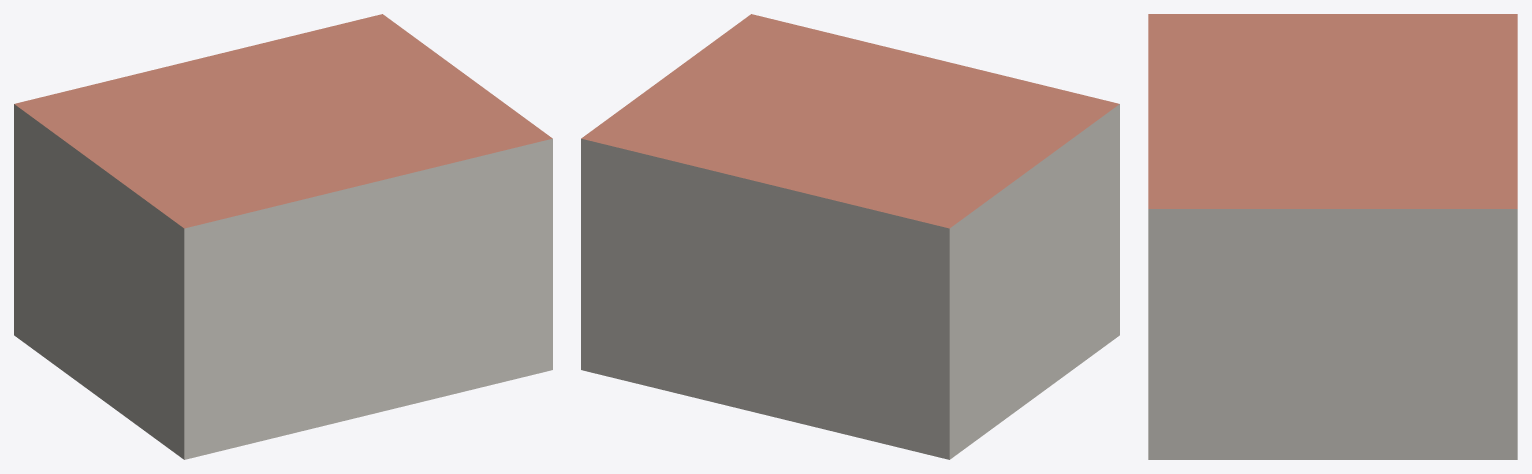
The picture shows the model from 3 angles, left to right: view 1: azimuth 30°, elevation 25°; view 2: azimuth 150°, elevation 25°; view 3: azimuth 270°, elevation 25°; orthographic projection. The views are drawn at different scales.
Visible parts, largest first — view 1: streetwide:sample-house; view 2: streetwide:sample-house; view 3: streetwide:sample-house.
Part boxes in pixels (x1=…): streetwide:sample-house: x1=14, y1=14, x2=552, y2=459; streetwide:sample-house: x1=581, y1=14, x2=1119, y2=459; streetwide:sample-house: x1=1148, y1=14, x2=1517, y2=459.
Bounding box in the file's own units: 10 × 6 × 8.
